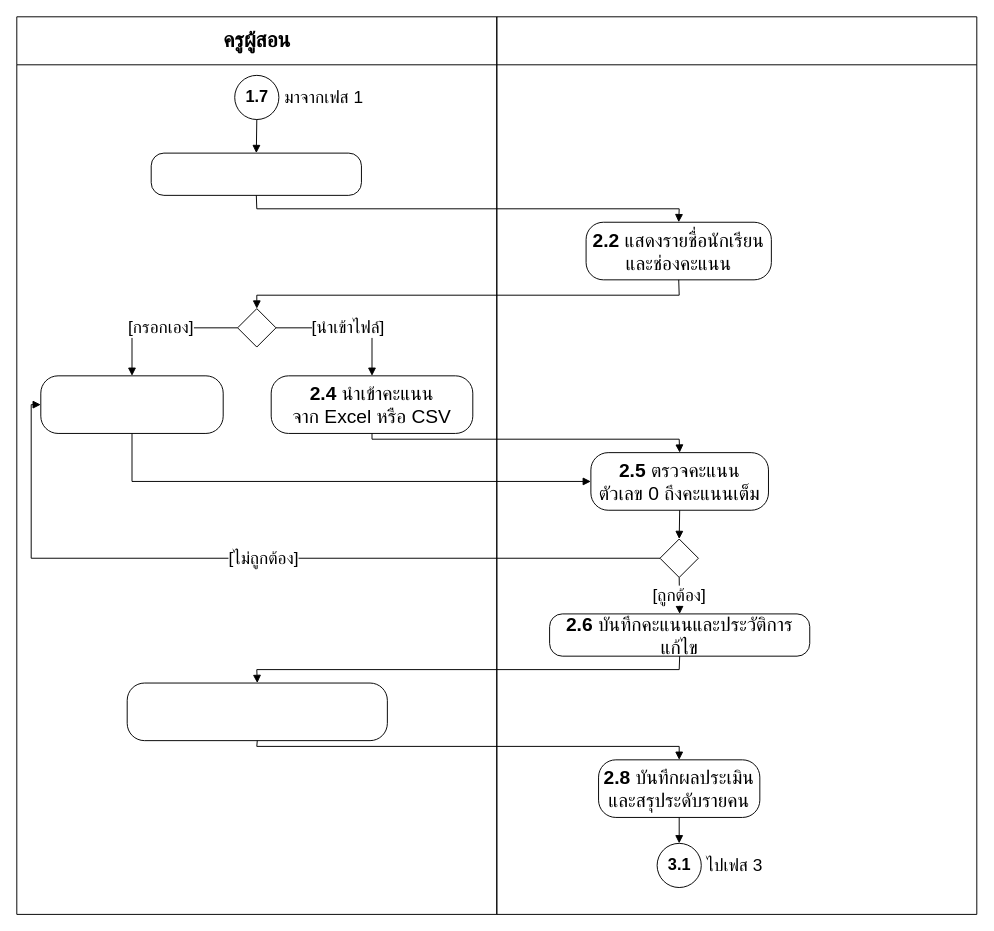
Some shapes in this 994 by 931 pixel diagram are drawn without their labels. The box of each missing label's shape, as (x1, y1, x2, y2) in pixels:
2.1 เลือกองค์ประกอบคะแนน: (150, 152, 361, 195)
2.3 กรอกคะแนน หรือระบุ ร / ข: (40, 375, 223, 433)
2.7 ประเมินคุณลักษณะฯ และการอ่าน คิดวิเคราะห์ และเขียน: (126, 682, 387, 741)
ระบบ: (496, 16, 977, 914)
